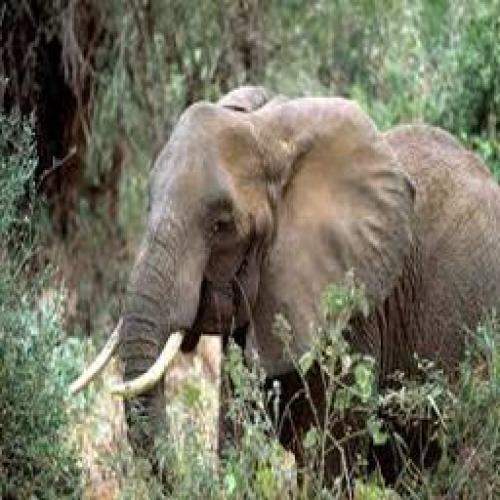african_elephant-endangered: (103, 94, 500, 500)
